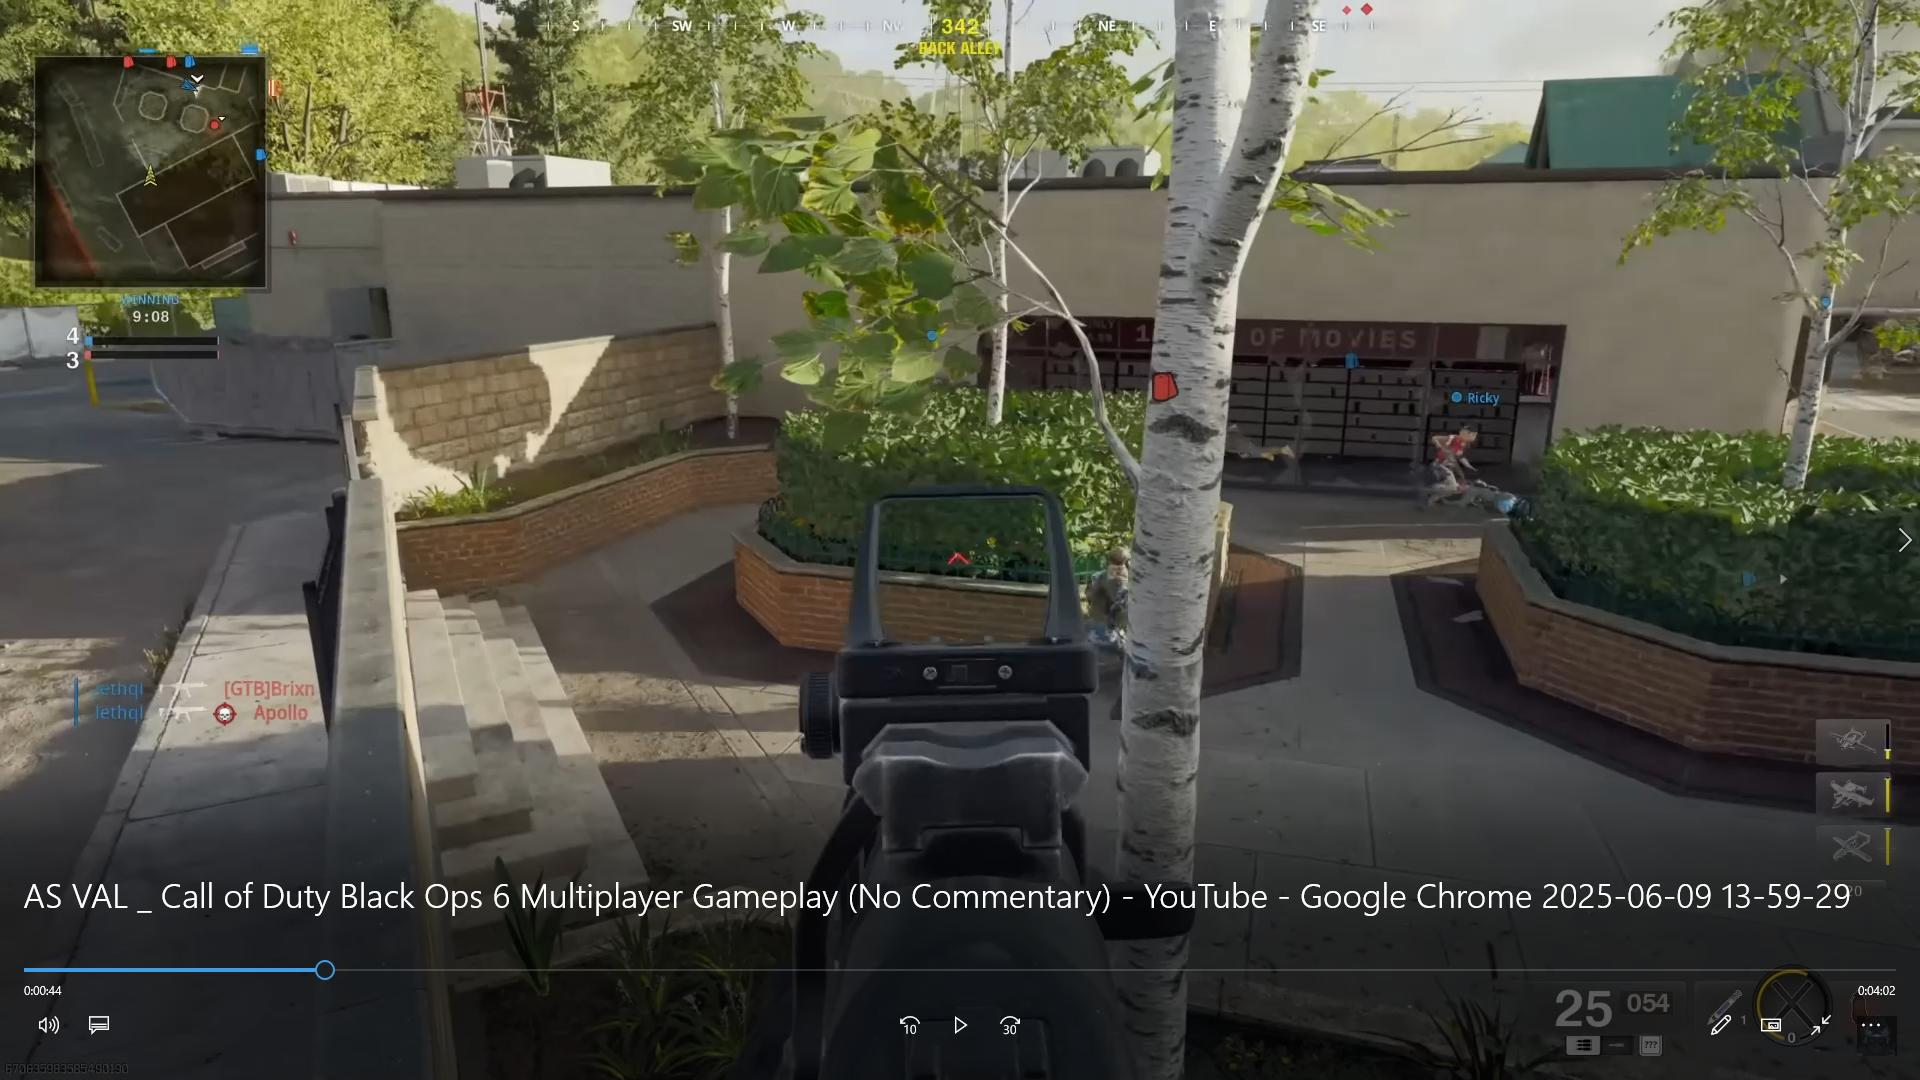Enemy: (1412, 419, 1474, 513)
